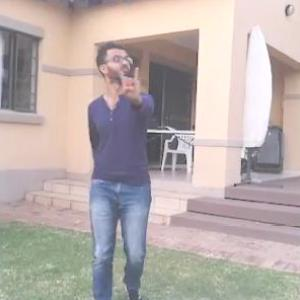takeoff-hand: (114, 61, 144, 103)
